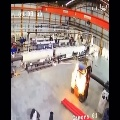fire: (71, 61, 87, 95)
